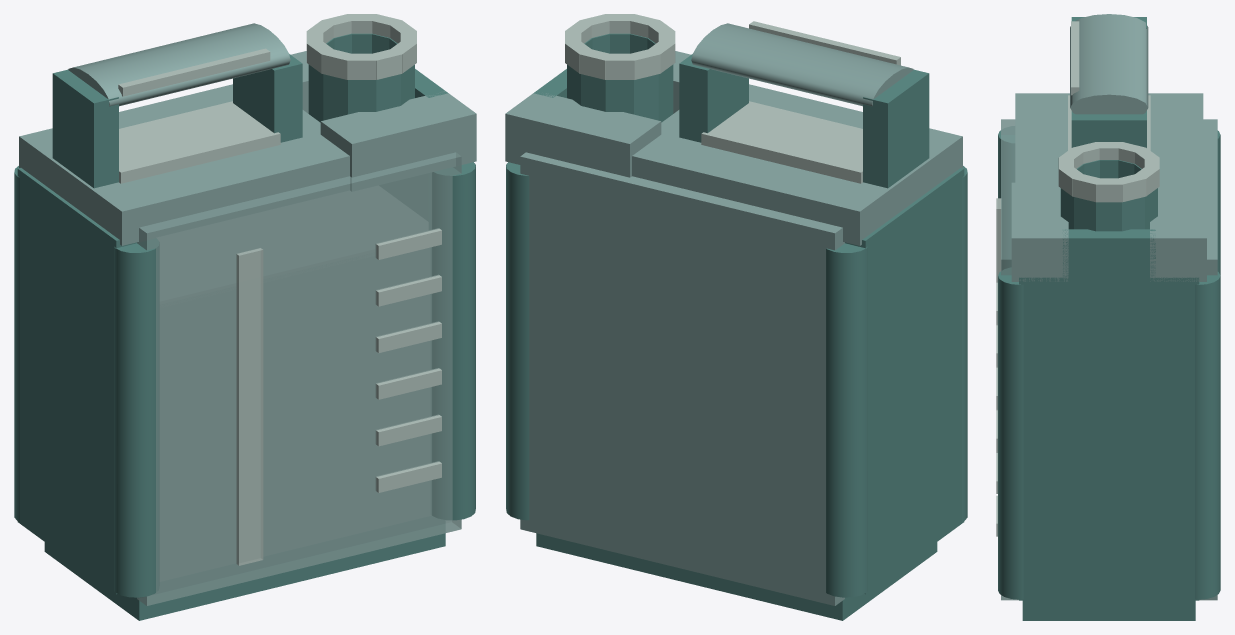
File: CMU3DReagentJugFill4StudyCloud.glb
The picture shows the model from 3 angles, left to right: view 1: azimuth 30°, elevation 25°; view 2: azimuth 150°, elevation 25°; view 3: azimuth 270°, elevation 25°; orthographic projection. The views are drawn at different scales.
Parts seen in each view (by area): view 1: front translucent jug wall, left molded jug wall, rounded canister corner (×3), jug shoulder left deck, jug shoulder front around spout, front vertical molding, handle inner lower ledge, handle rounded bridge, handle left upright, closed molded jug floor, handle right upright, handle top glint (+13 smaller); view 2: back molded jug wall, left molded jug wall, rounded canister corner (×3), jug shoulder left deck, handle rounded bridge, jug shoulder rear around spout, handle inner lower ledge, handle left upright, closed molded jug floor, handle right upright, handle top glint, hollow pouring neck 06 (+6 smaller); view 3: right molded jug wall, rounded canister corner (×4), jug shoulder left deck, handle rounded bridge, jug shoulder front around spout, jug shoulder rear around spout, jug shoulder right around spout, closed molded jug floor, handle right upright, back molded jug wall, front translucent jug wall, hollow pouring neck 01 (+16 smaller).
Boxes of the visible parts, bbox=[...] form: front translucent jug wall: bbox=[137, 152, 461, 605]; left molded jug wall: bbox=[17, 168, 137, 594]; rounded canister corner (×3): bbox=[14, 162, 475, 597]; jug shoulder left deck: bbox=[19, 84, 349, 245]; jug shoulder front around spout: bbox=[320, 91, 476, 191]; front vertical molding: bbox=[236, 248, 263, 565]; handle inner lower ledge: bbox=[119, 101, 280, 183]; handle rounded bridge: bbox=[68, 23, 290, 106]; handle left upright: bbox=[52, 69, 118, 188]; closed molded jug floor: bbox=[44, 533, 445, 620]; handle right upright: bbox=[233, 54, 302, 142]; handle top glint: bbox=[118, 48, 270, 96]; back molded jug wall: bbox=[520, 152, 844, 605]; left molded jug wall: bbox=[845, 168, 964, 594]; rounded canister corner (×3): bbox=[506, 162, 967, 597]; jug shoulder left deck: bbox=[632, 84, 962, 245]; handle rounded bridge: bbox=[691, 23, 913, 106]; jug shoulder rear around spout: bbox=[505, 93, 661, 177]; handle inner lower ledge: bbox=[701, 101, 862, 183]; handle left upright: bbox=[863, 69, 929, 188]; closed molded jug floor: bbox=[536, 533, 937, 620]; handle right upright: bbox=[679, 54, 748, 142]; handle top glint: bbox=[749, 21, 900, 65]; hollow pouring neck 06: bbox=[634, 74, 658, 120]; right molded jug wall: bbox=[1019, 277, 1199, 600]; rounded canister corner (×4): bbox=[998, 130, 1220, 599]; jug shoulder left deck: bbox=[1015, 93, 1203, 182]; handle rounded bridge: bbox=[1070, 14, 1148, 114]; jug shoulder front around spout: bbox=[1011, 182, 1068, 281]; jug shoulder rear around spout: bbox=[1150, 182, 1206, 281]; jug shoulder right around spout: bbox=[1062, 229, 1155, 281]; closed molded jug floor: bbox=[1022, 600, 1195, 620]; handle right upright: bbox=[1071, 111, 1146, 147]; back molded jug wall: bbox=[1199, 119, 1217, 600]; front translucent jug wall: bbox=[1001, 119, 1018, 600]; hollow pouring neck 01: bbox=[1096, 202, 1121, 231].
Bounding box in the file's own units: 0.502 × 0.688 × 0.298.
